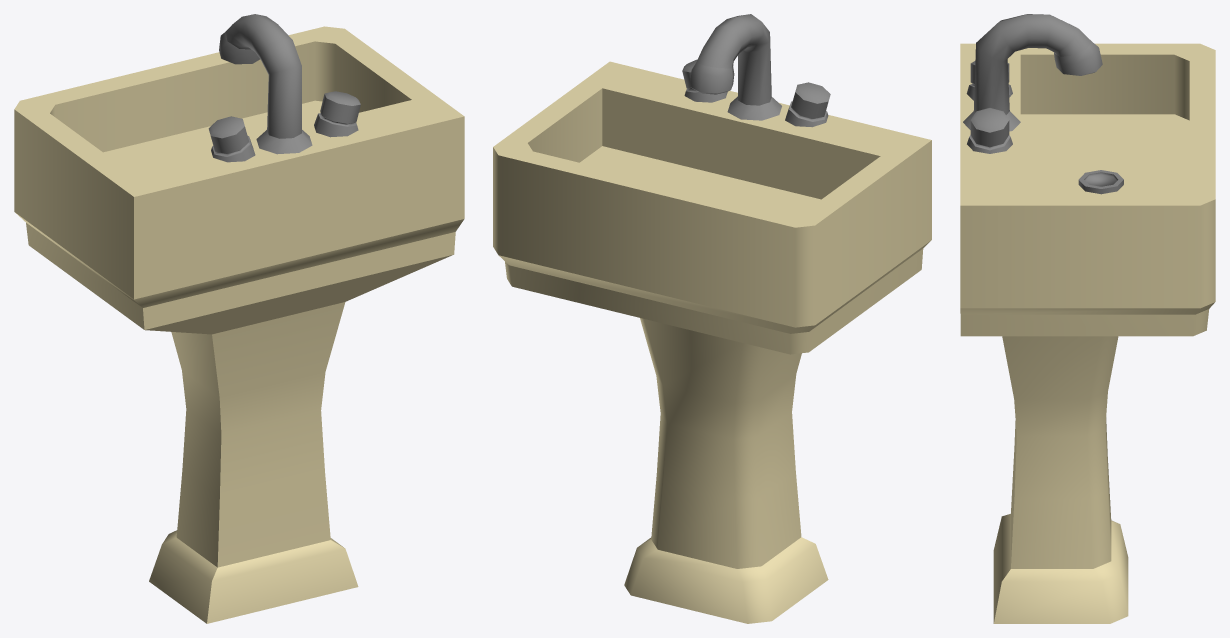
File: SM_Sink_02.fbx
The picture shows the model from 3 angles, left to right: view 1: azimuth 30°, elevation 25°; view 2: azimuth 150°, elevation 25°; view 3: azimuth 270°, elevation 25°; orthographic projection. The views are drawn at different scales.
Parts seen in each view (by area): view 1: SM_Sink_02; view 2: SM_Sink_02; view 3: SM_Sink_02.
Part boxes in pixels (x1,y1,x2,y2): SM_Sink_02: [14, 14, 464, 623]; SM_Sink_02: [493, 14, 931, 623]; SM_Sink_02: [960, 14, 1215, 623].
Size of the model in its own units: 0.75 by 0.5 by 1.24.
